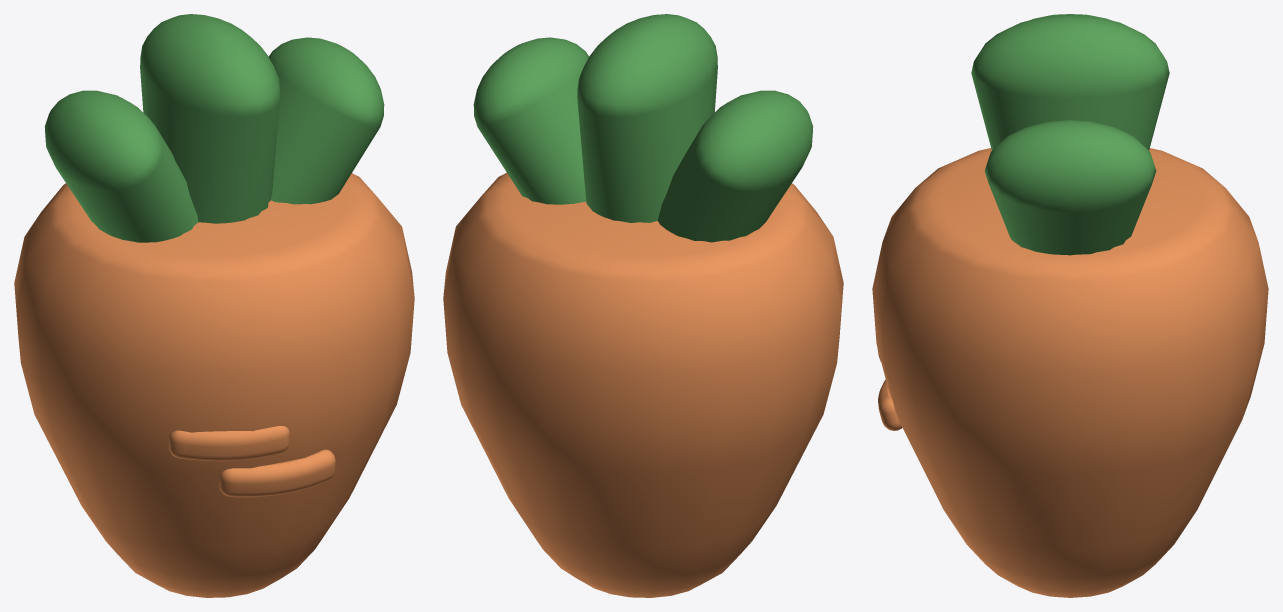
Rendered from Carrot_small.fbx.
The picture shows the model from 3 angles, left to right: view 1: azimuth 30°, elevation 25°; view 2: azimuth 150°, elevation 25°; view 3: azimuth 270°, elevation 25°; orthographic projection.
Visible parts, largest first — view 1: Carrot_small; view 2: Carrot_small; view 3: Carrot_small.
Boxes of the visible parts, left/top/right/bottom form: Carrot_small: left=14, top=14, right=414, bottom=597; Carrot_small: left=443, top=14, right=843, bottom=597; Carrot_small: left=872, top=14, right=1268, bottom=597.
Size of the model in its own units: 1.45 by 2.21 by 1.41.
